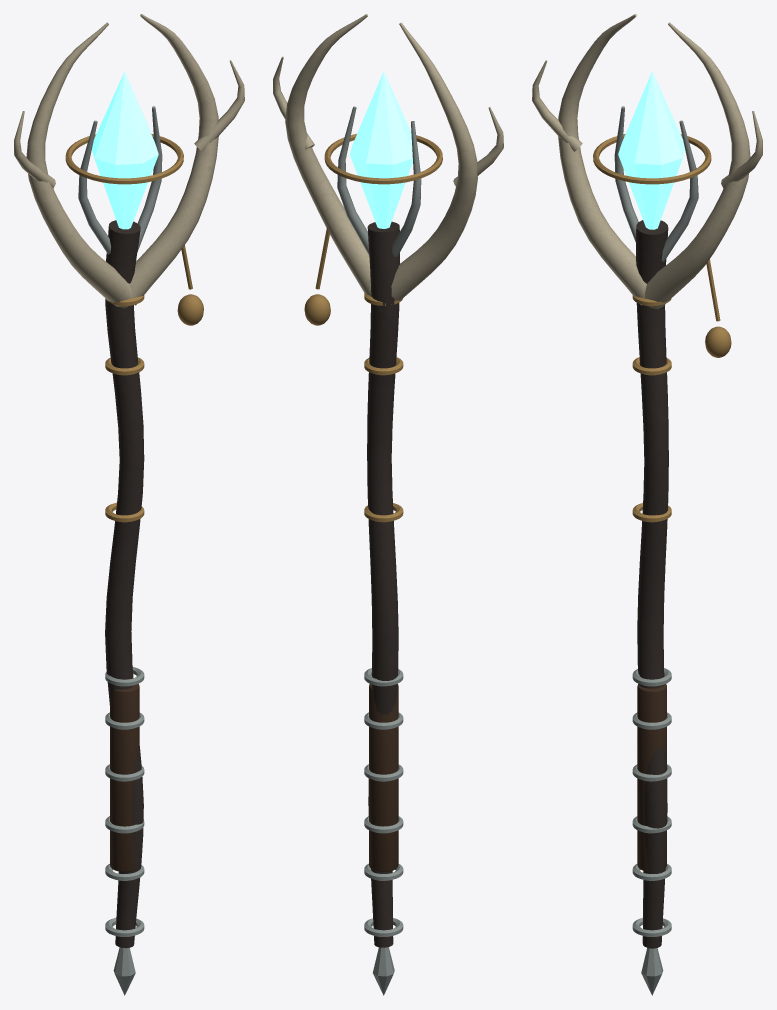
Rendered from soul_staff.glb.
3 views of the same model, side by side, from view 1: azimuth 30°, elevation 25°; view 2: azimuth 150°, elevation 25°; view 3: azimuth 330°, elevation 25° (orthographic).
Parts seen in each view (by area): view 1: soul_staff; view 2: soul_staff; view 3: soul_staff.
Part boxes in pixels (bbox=[...]): soul_staff: bbox=[14, 14, 244, 995]; soul_staff: bbox=[273, 14, 503, 995]; soul_staff: bbox=[532, 14, 762, 995].
Size of the model in its own units: 0.5569 by 2.26 by 0.2481.
Materials: 7 (5 with a texture image).
